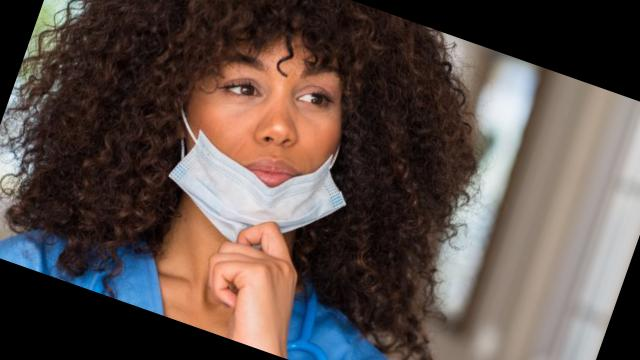mask_weared_incorrect: (166, 41, 369, 250)
